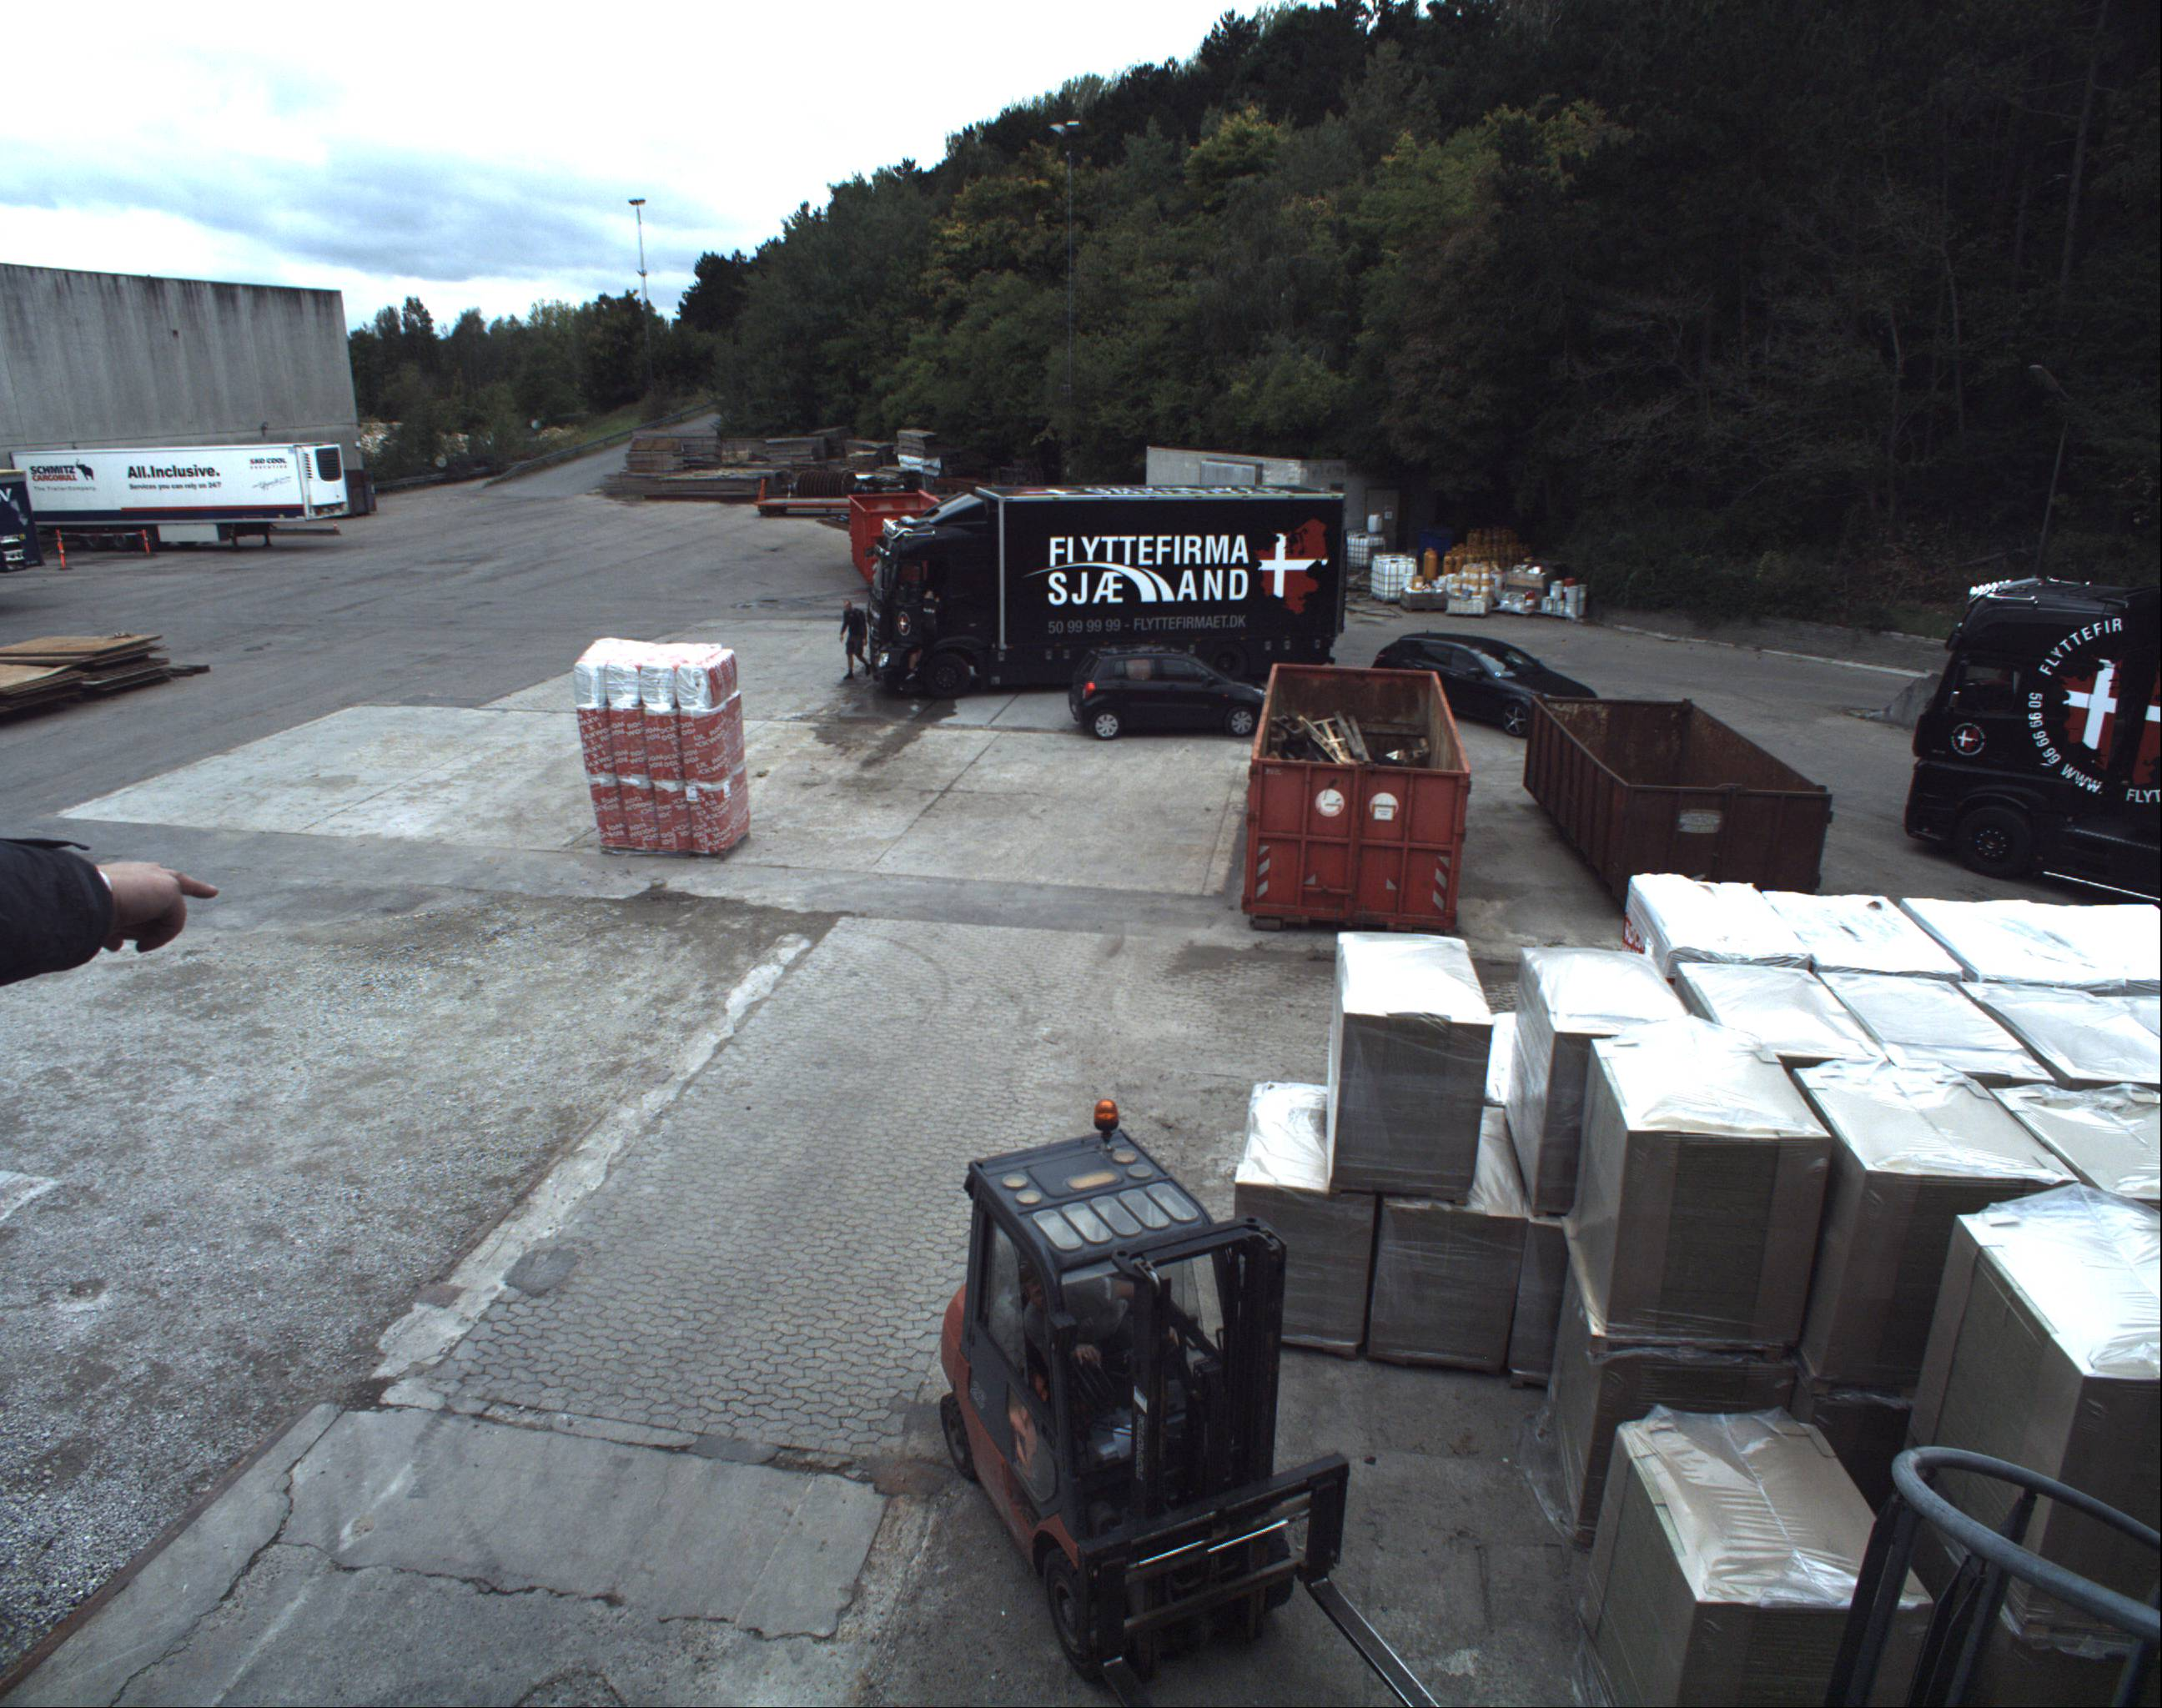rockwool_batts: (558, 634, 753, 867)
